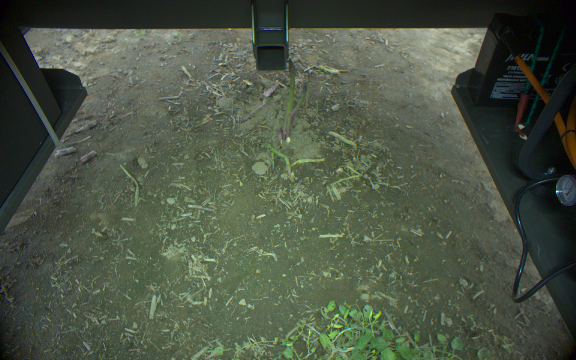aspa: (257, 135, 292, 175), (288, 81, 308, 134), (118, 162, 141, 205), (284, 57, 295, 137), (240, 97, 267, 120), (327, 129, 356, 146), (290, 155, 325, 167)
